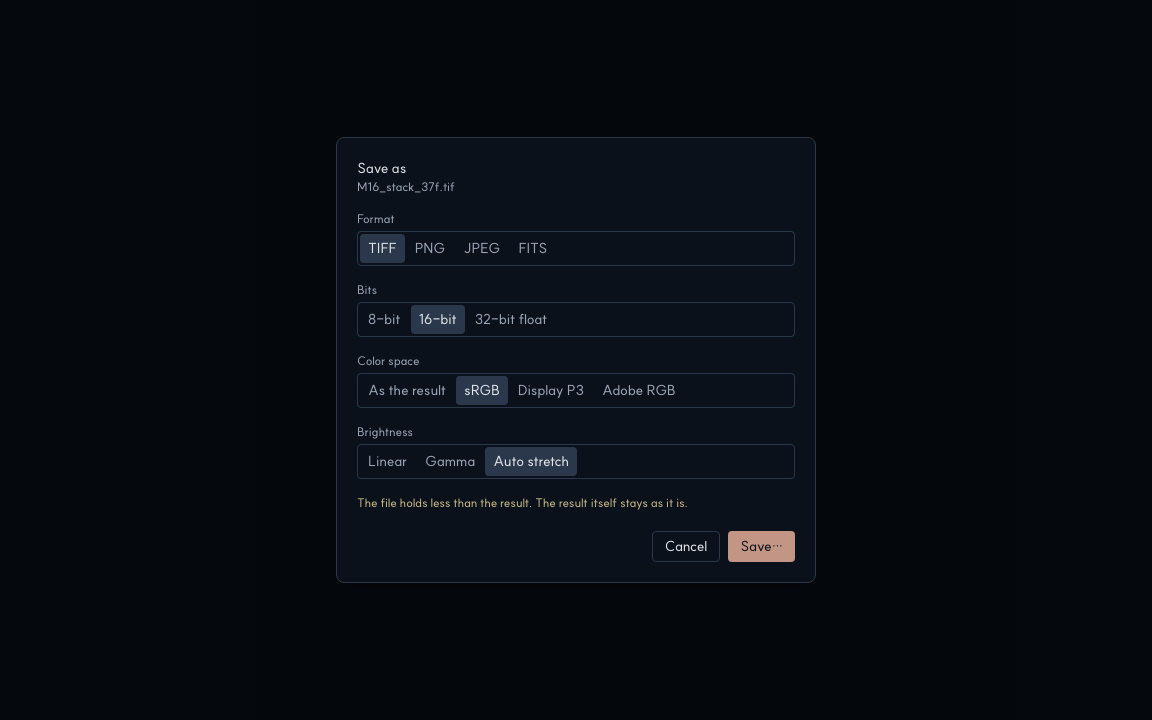
Test: the save-as dialog › keeps the colors and the linear values for FITS
Click the radio button labelled "FITS" at point(533, 248), box [510,234,555,263]
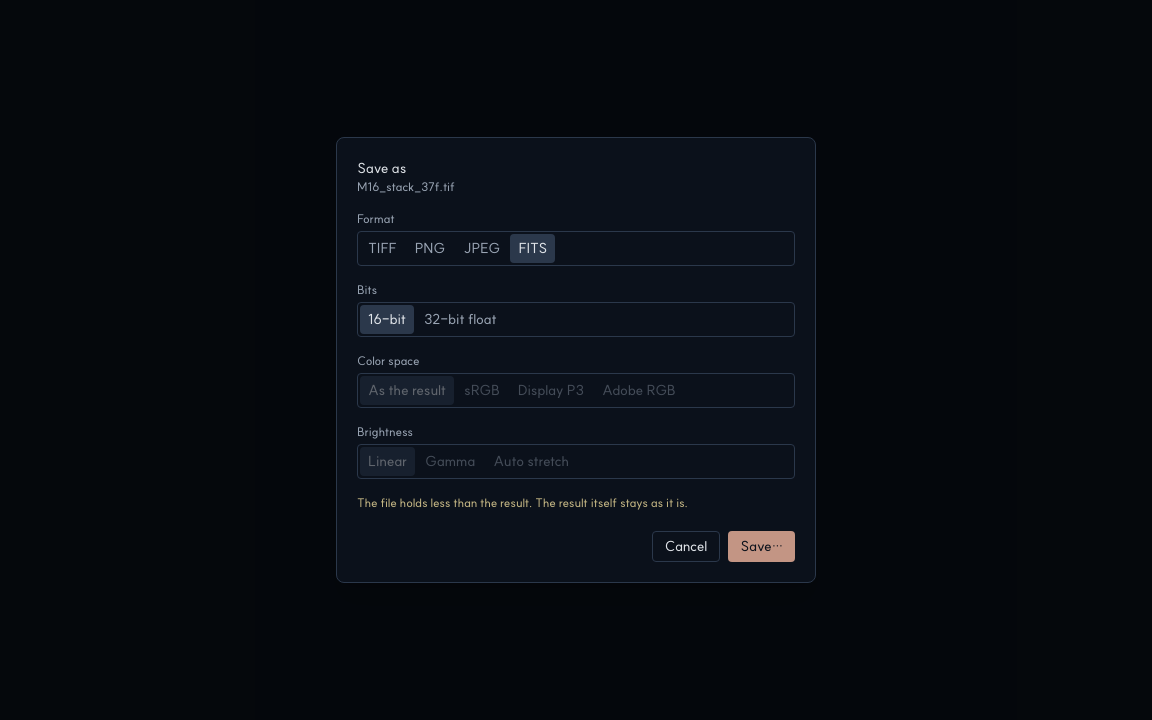
expect the radio button labelled "sRGB" is disabled: met, box [456,376,508,405]
